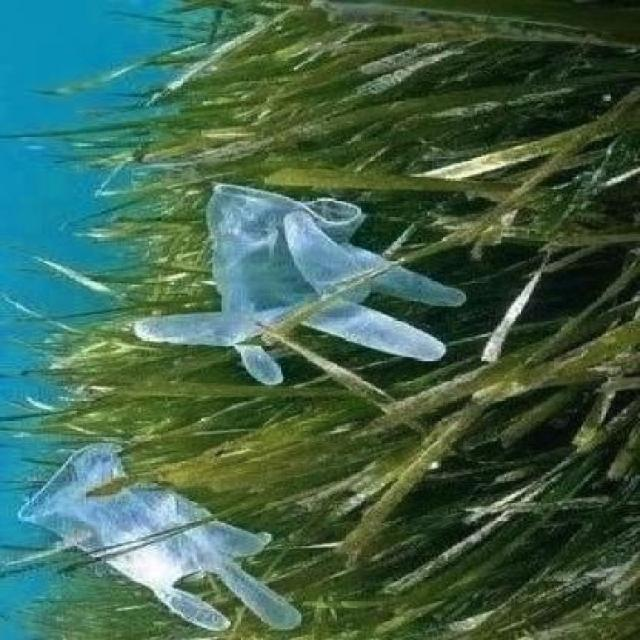glove: (124, 175, 476, 388), (7, 426, 315, 639)
